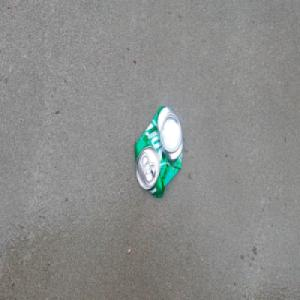SodaCan: (133, 104, 184, 200)
